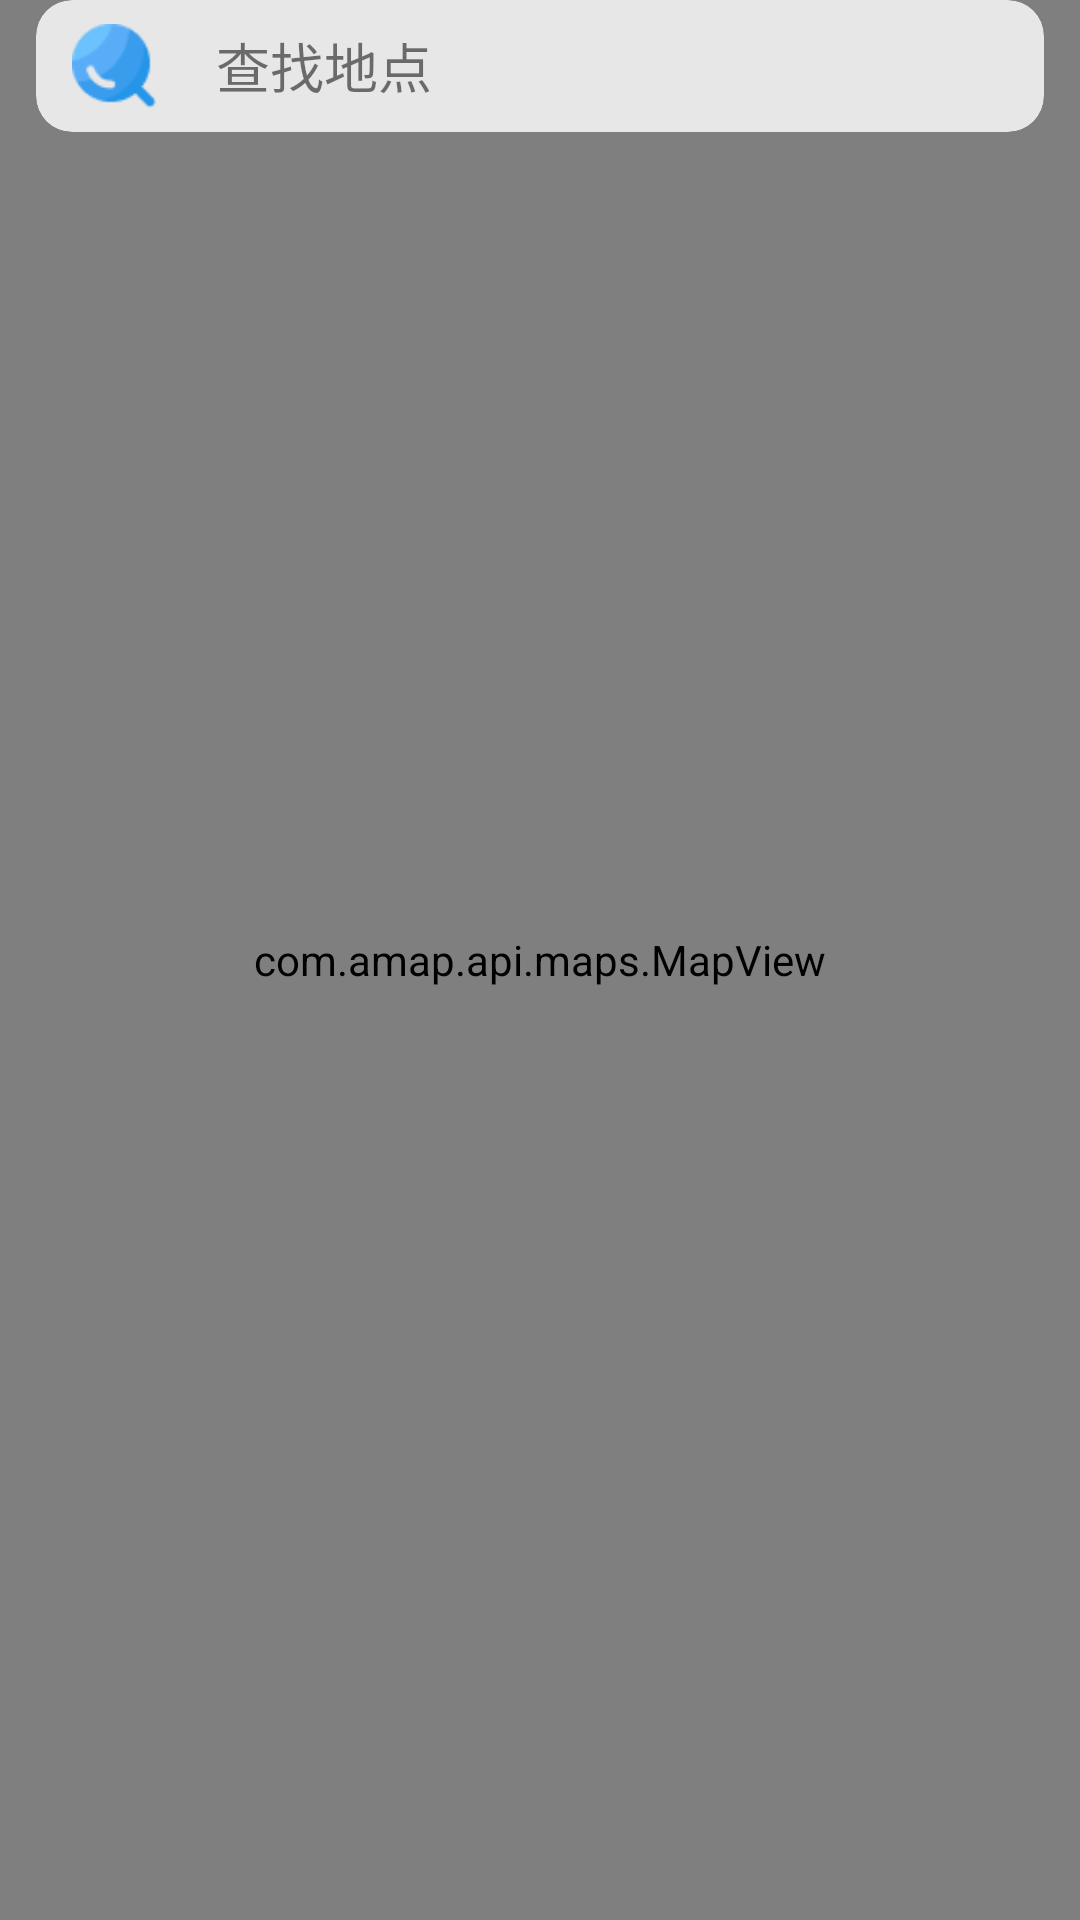

Icon click points for this 1080x1920 phone screenshot, format point (x, y):
search: point (114, 65)
